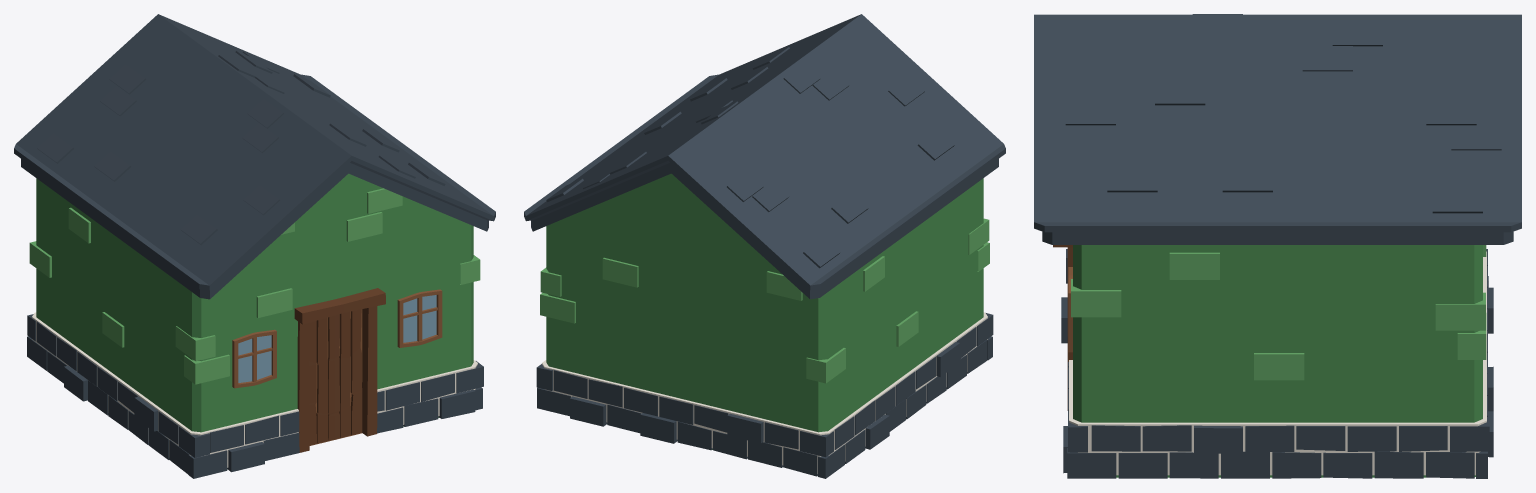
The model's file is q_1Story_GableRoof.obj.
The picture shows the model from 3 angles, left to right: view 1: azimuth 30°, elevation 25°; view 2: azimuth 150°, elevation 25°; view 3: azimuth 270°, elevation 25°; orthographic projection. The views are drawn at different scales.
Parts seen in each view (by area): view 1: 1Story_GableRoof_Cube.062; view 2: 1Story_GableRoof_Cube.062; view 3: 1Story_GableRoof_Cube.062.
Part boxes in pixels (bbox=[...]): 1Story_GableRoof_Cube.062: bbox=[14, 14, 495, 478]; 1Story_GableRoof_Cube.062: bbox=[524, 14, 1005, 478]; 1Story_GableRoof_Cube.062: bbox=[1034, 14, 1521, 478].
Bounding box in the file's own units: 2.11 × 2.02 × 2.38.
1 material, 1 textured.
